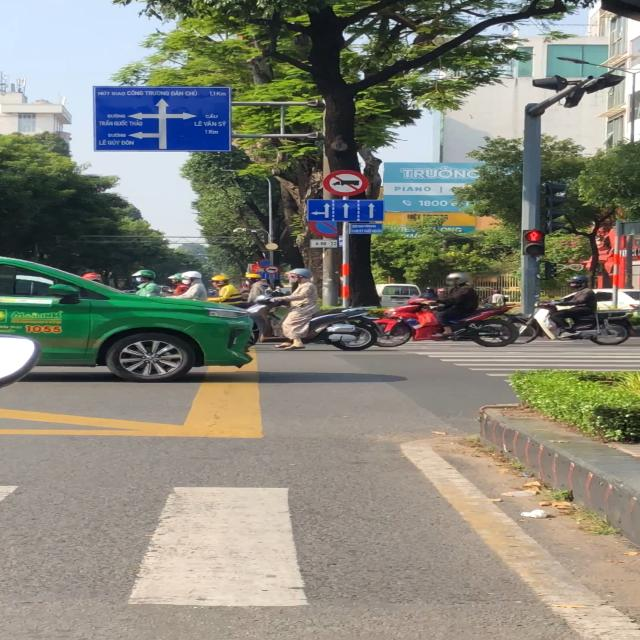Bien bao cam xe so-mi ro-mooc: (320, 169, 375, 196)
